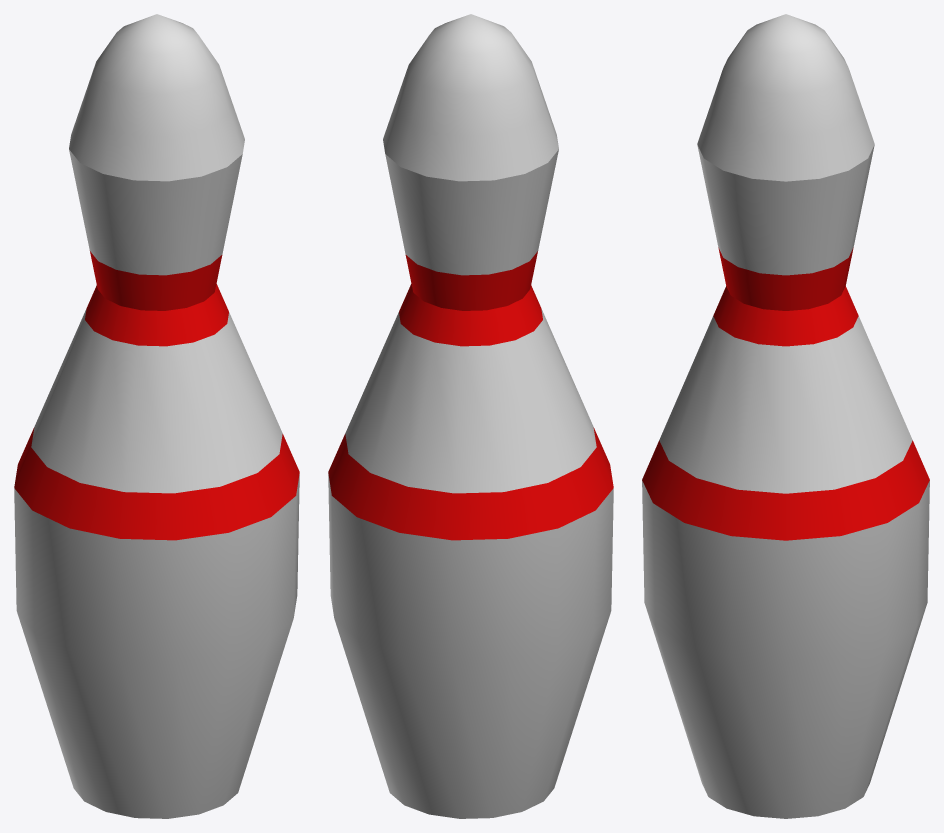
File: BowlingPinWolfjam2026.fbx
3 renders of one model, left to right at view 1: azimuth 30°, elevation 25°; view 2: azimuth 150°, elevation 25°; view 3: azimuth 270°, elevation 25°, orthographic.
Visible parts, largest first — view 1: Cylinder; view 2: Cylinder; view 3: Cylinder.
Boxes of the visible parts, bbox=[...] form: Cylinder: bbox=[14, 14, 299, 818]; Cylinder: bbox=[328, 14, 613, 818]; Cylinder: bbox=[642, 14, 929, 818].
Bounding box in the file's own units: 152 × 448 × 152.
